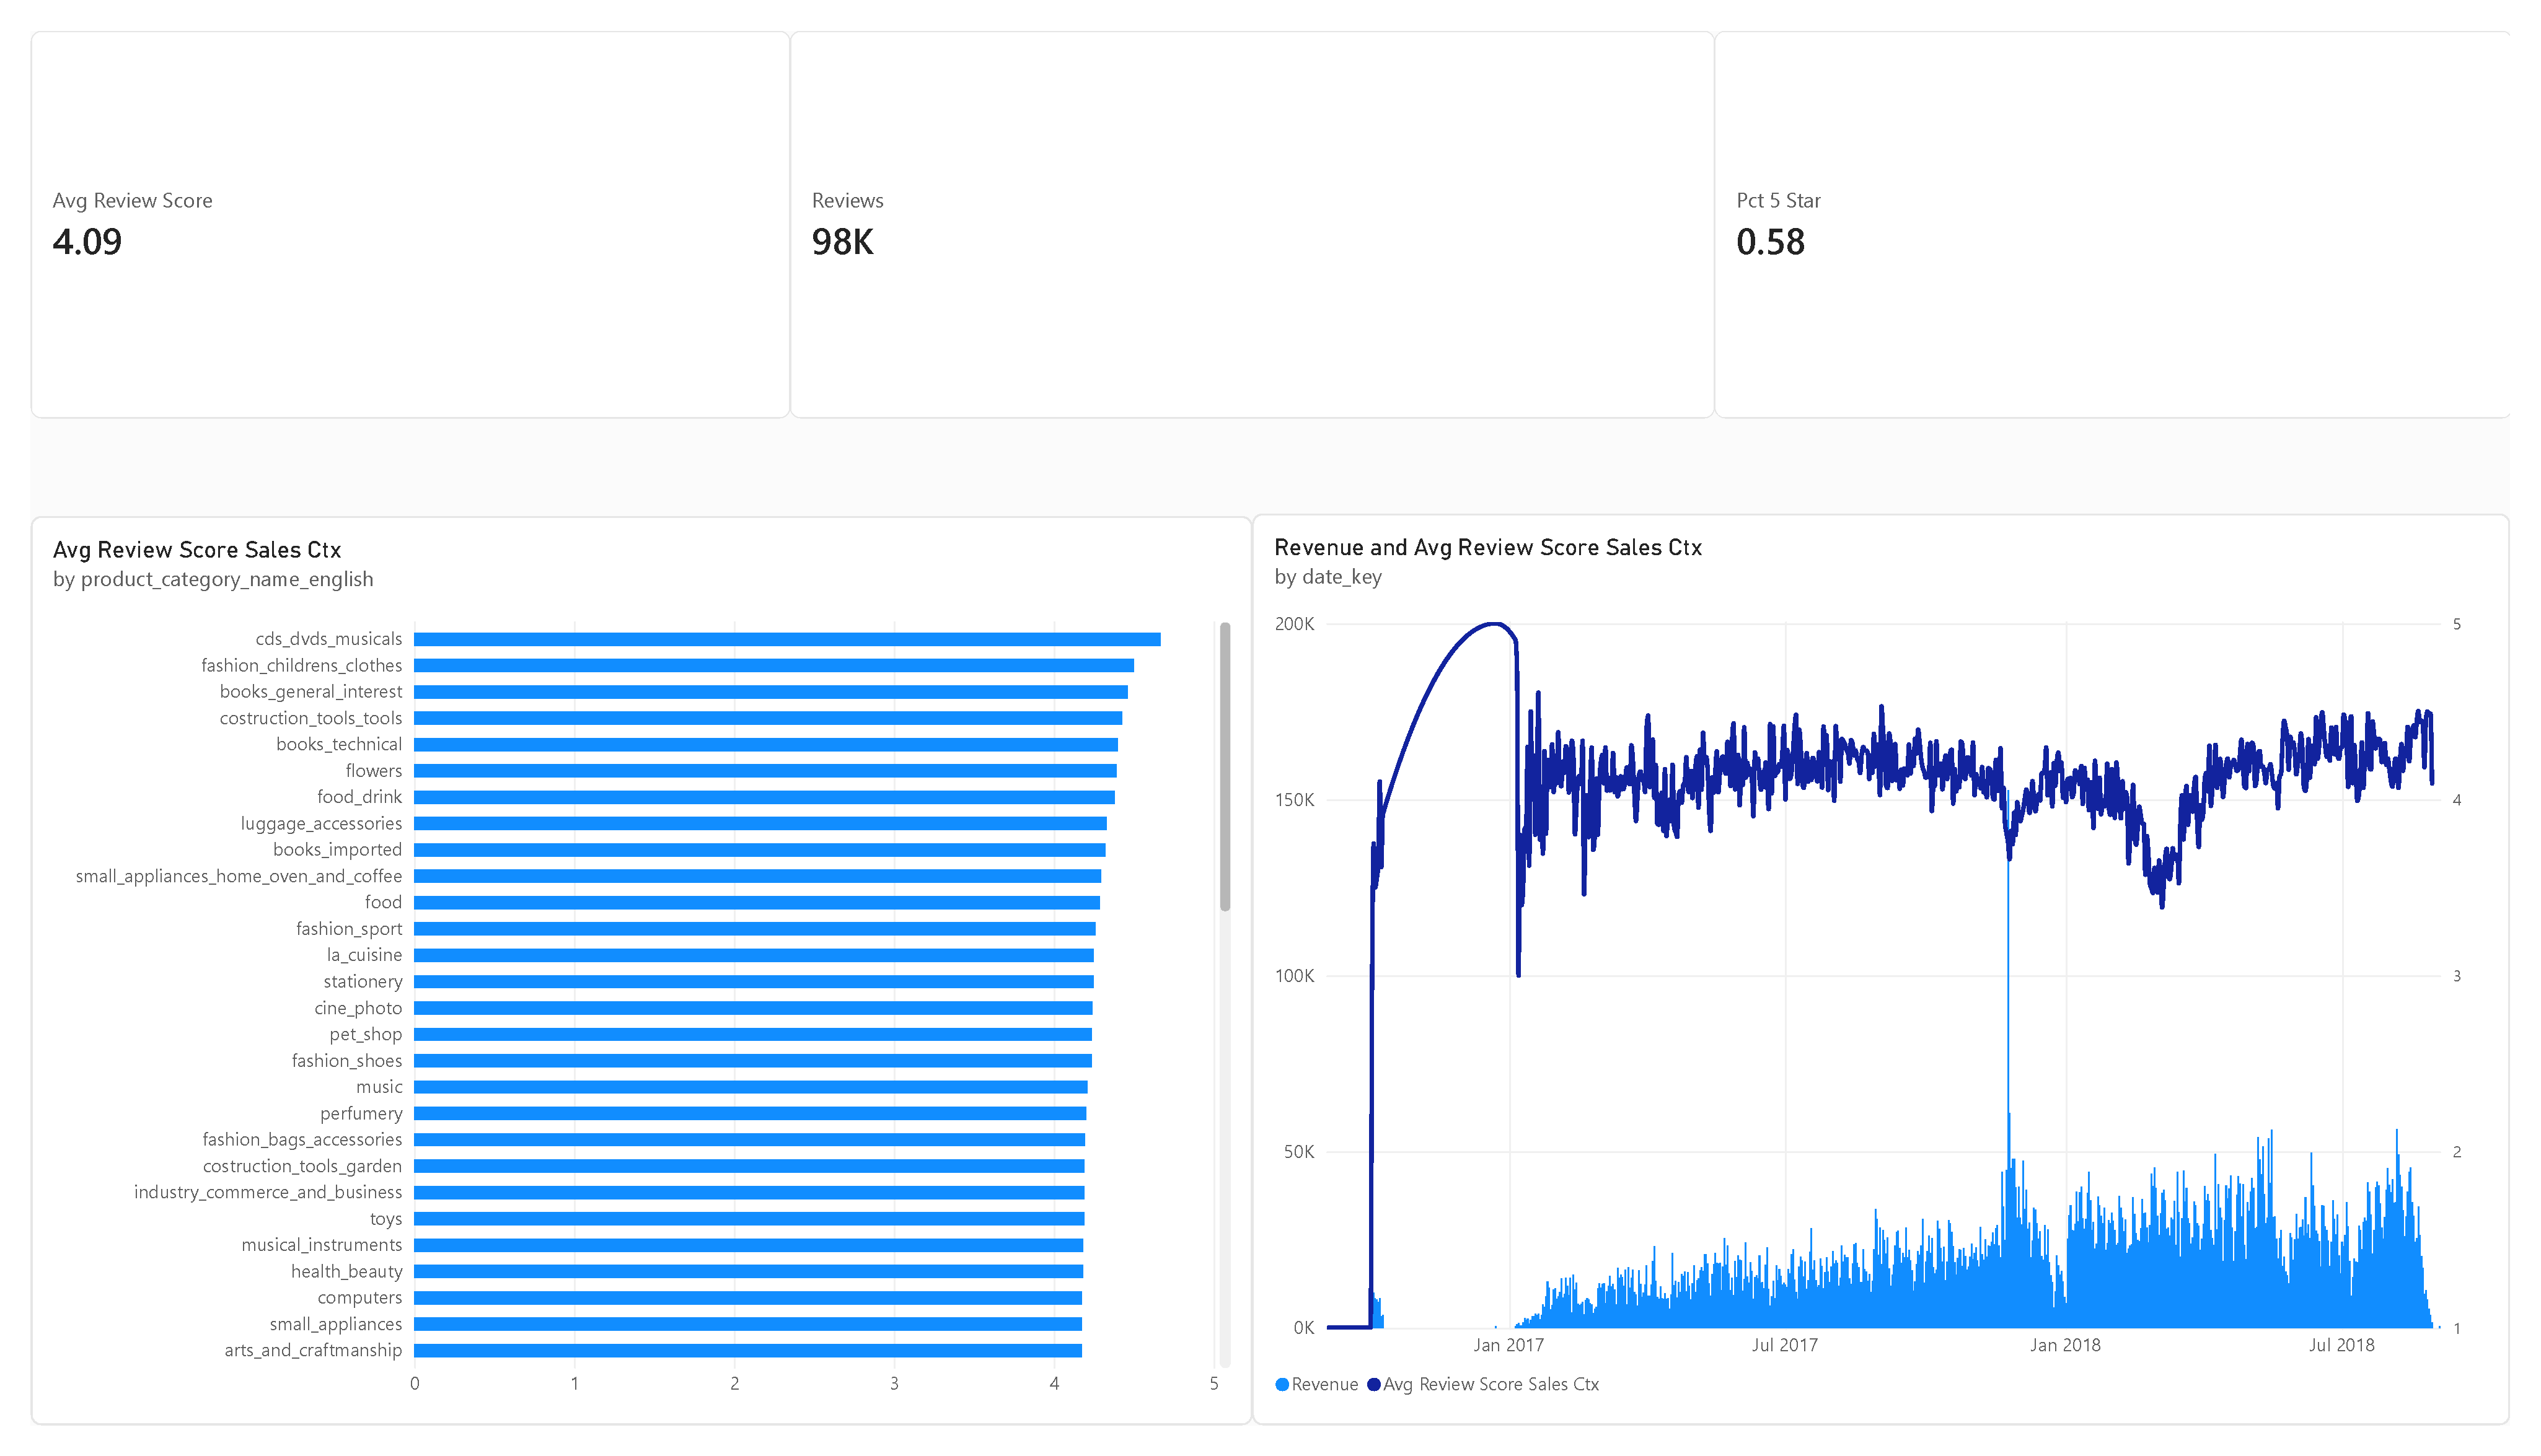

The page's visual inventory and layout, read from the dashboard file:
{"tool":"powerbi","page":{"name":"Reviews × Sales","canvas":[1920,1080],"ordinal":1},"visuals":[{"type":"cardVisual","fields":{"Data":["fact_reviews.Avg Review Score"]},"box":[0,0,467.5,300.7],"z":0},{"type":"cardVisual","fields":{"Data":["fact_reviews.Reviews"]},"box":[467.5,0,491.9,300.7],"z":1000},{"type":"cardVisual","fields":{"Data":["fact_reviews.Pct 5 Star"]},"box":[959.4,0,587.5,300.7],"z":2000},{"type":"clusteredBarChart","fields":{"Category":["dim_product.product_category_name_english"],"Y":["fact_reviews.Avg Review Score Sales Ctx"]},"box":[0,311.1,768.2,705.7],"z":3000},{"type":"lineClusteredColumnComboChart","fields":{"Category":["dim_date.date_key"],"Y":["fact_sales.Revenue"],"Y2":["fact_reviews.Avg Review Score Sales Ctx"]},"box":[778,311,768,706],"z":4000}]}

Visuals, with their boxes on the page's 1920x1080 design canvas (x1, y1, x2, y2). These are canvas units, not pixel positions in the 2541x1456 screenshot, which may show the page scaled, cropped or inside an application window:
cardVisual - fact_reviews.Avg Review Score: (0, 0, 468, 301)
cardVisual - fact_reviews.Reviews: (468, 0, 959, 301)
cardVisual - fact_reviews.Pct 5 Star: (959, 0, 1547, 301)
clusteredBarChart - dim_product.product_category_name_english x fact_reviews.Avg Review Score Sales Ctx: (0, 311, 768, 1017)
lineClusteredColumnComboChart - dim_date.date_key x fact_sales.Revenue: (778, 311, 1546, 1017)
